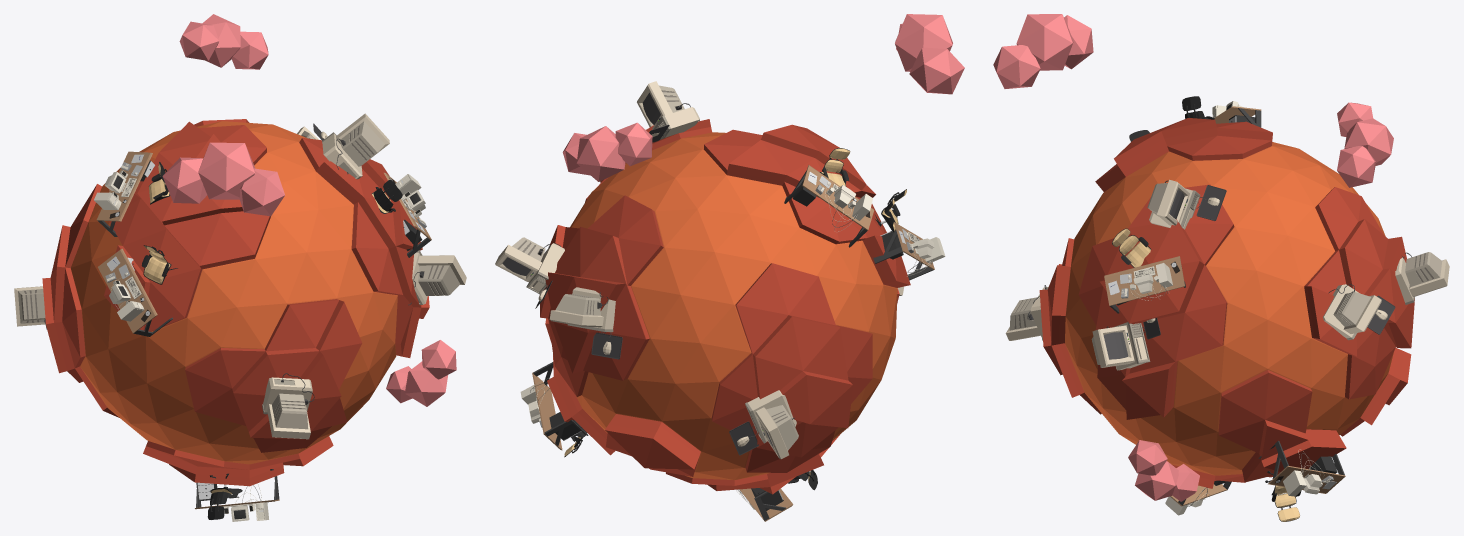
Rendered from computer_planet.glb.
The picture shows the model from 3 angles, left to right: view 1: azimuth 30°, elevation 25°; view 2: azimuth 150°, elevation 25°; view 3: azimuth 270°, elevation 25°; orthographic projection. The views are drawn at different scales.
Parts seen in each view (by area): view 1: Icokugel_Material.002_0.002, Icokugel.001_Material.001_0.002, Icokugel.004_Material_0.002, Icokugel.003_Material_0.001, Icokugel.005_Material_0.002, Monitor.002_RetroPalette2_0.004, Monitor.002_RetroPalette2_0.003, Monitor.002_RetroPalette2_0.002, Office_desk_ComputerDesk_0.002, Monitor.002_RetroPalette2_0.005, Office_desk_ComputerDesk_0.001, Computer.002_RetroPalette2_0.004 (+4 smaller); view 2: Icokugel_Material.002_0.002, Icokugel.001_Material.001_0.002, Icokugel.004_Material_0.002, Icokugel.003_Material_0.001, Monitor.002_RetroPalette2_0.005, Monitor.002, Monitor.002_RetroPalette2_0.001, Office_desk_ComputerDesk_0.004, Monitor.002_RetroPalette2_0.002, Office_desk_ComputerDesk_0.001, Office_desk_ComputerDesk_0.002, Computer.002_RetroPalette2_0.005 (+7 smaller); view 3: Icokugel_Material.002_0.002, Icokugel.001_Material.001_0.002, Icokugel.004_Material_0.002, Icokugel.003_Material_0.001, Icokugel.005_Material_0.002, Office_desk, Monitor.002, Monitor.002_RetroPalette2_0.003, Monitor.002_RetroPalette2_0.001, Monitor.002_RetroPalette2_0.002, Office_desk_ComputerDesk_0.004, Monitor.002_RetroPalette2_0.004 (+7 smaller).
Part boxes in pixels (x1=…): Icokugel_Material.002_0.002: x1=42, y1=119, x2=429, y2=486; Icokugel.001_Material.001_0.002: x1=70, y1=121, x2=397, y2=464; Icokugel.004_Material_0.002: x1=162, y1=142, x2=284, y2=216; Icokugel.003_Material_0.001: x1=179, y1=14, x2=268, y2=69; Icokugel.005_Material_0.002: x1=386, y1=340, x2=456, y2=406; Monitor.002_RetroPalette2_0.004: x1=267, y1=393, x2=310, y2=439; Monitor.002_RetroPalette2_0.003: x1=417, y1=255, x2=466, y2=295; Monitor.002_RetroPalette2_0.002: x1=336, y1=113, x2=389, y2=166; Office_desk_ComputerDesk_0.002: x1=98, y1=248, x2=172, y2=336; Monitor.002_RetroPalette2_0.005: x1=14, y1=286, x2=45, y2=326; Office_desk_ComputerDesk_0.001: x1=96, y1=151, x2=152, y2=236; Computer.002_RetroPalette2_0.004: x1=262, y1=377, x2=312, y2=414; Icokugel_Material.002_0.002: x1=540, y1=119, x2=910, y2=494; Icokugel.001_Material.001_0.002: x1=570, y1=132, x2=897, y2=480; Icokugel.004_Material_0.002: x1=895, y1=14, x2=964, y2=94; Icokugel.003_Material_0.001: x1=562, y1=122, x2=652, y2=181; Monitor.002_RetroPalette2_0.005: x1=755, y1=405, x2=798, y2=459; Monitor.002: x1=549, y1=294, x2=603, y2=327; Monitor.002_RetroPalette2_0.001: x1=495, y1=237, x2=545, y2=281; Office_desk_ComputerDesk_0.004: x1=532, y1=362, x2=588, y2=450; Monitor.002_RetroPalette2_0.002: x1=637, y1=81, x2=684, y2=129; Office_desk_ComputerDesk_0.001: x1=784, y1=165, x2=874, y2=247; Office_desk_ComputerDesk_0.002: x1=873, y1=222, x2=934, y2=280; Computer.002_RetroPalette2_0.005: x1=745, y1=390, x2=796, y2=443; Icokugel_Material.002_0.002: x1=1039, y1=118, x2=1414, y2=488; Icokugel.001_Material.001_0.002: x1=1065, y1=142, x2=1393, y2=475; Icokugel.004_Material_0.002: x1=993, y1=14, x2=1093, y2=88; Icokugel.003_Material_0.001: x1=1337, y1=102, x2=1393, y2=187; Icokugel.005_Material_0.002: x1=1128, y1=440, x2=1199, y2=501; Office_desk: x1=1104, y1=256, x2=1185, y2=313; Monitor.002: x1=1405, y1=252, x2=1449, y2=296; Monitor.002_RetroPalette2_0.003: x1=1091, y1=325, x2=1134, y2=367; Monitor.002_RetroPalette2_0.001: x1=1333, y1=292, x2=1381, y2=333; Monitor.002_RetroPalette2_0.002: x1=1147, y1=179, x2=1189, y2=225; Office_desk_ComputerDesk_0.004: x1=1258, y1=441, x2=1345, y2=493; Monitor.002_RetroPalette2_0.004: x1=1005, y1=297, x2=1040, y2=340.
Bounding box in the file's own units: 2.15 × 2.68 × 2.49.
19 materials, 16 textured.
